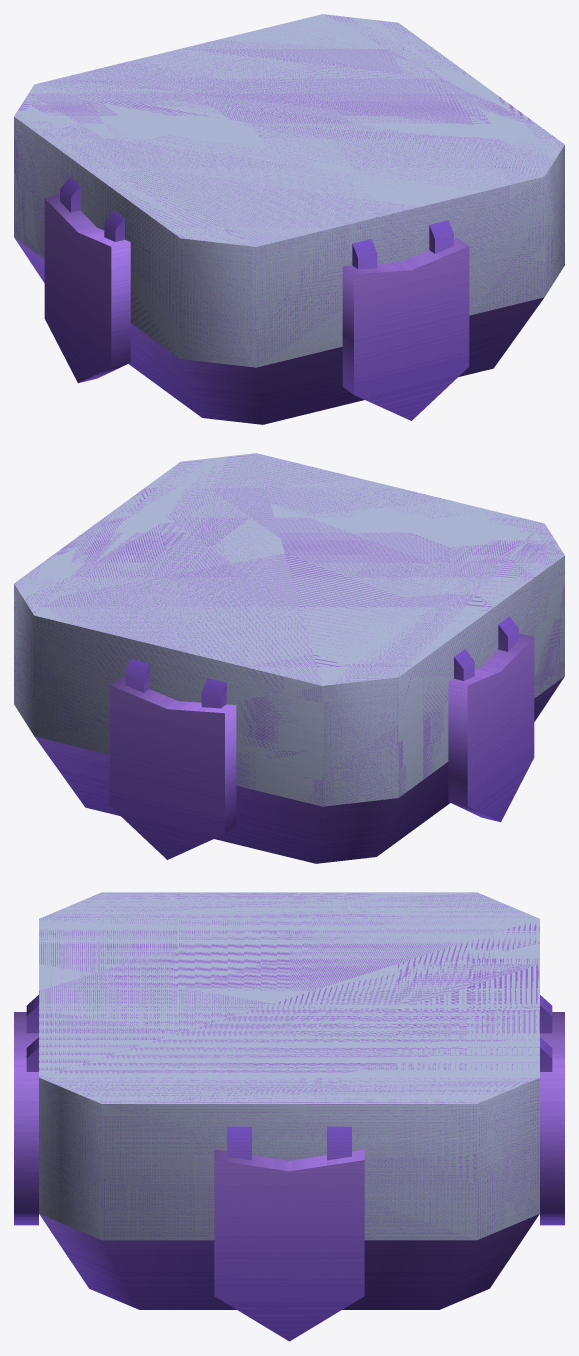
File: tower-defense-kit--tower-square-middle-a.glb
3 views of the same model, one above another, from view 1: azimuth 30°, elevation 25°; view 2: azimuth 150°, elevation 25°; view 3: azimuth 270°, elevation 25° (orthographic). The views are drawn at different scales.
Visible parts, largest first — view 1: tower-square-middle-a; view 2: tower-square-middle-a; view 3: tower-square-middle-a.
Boxes of the visible parts, bbox=[...] form: tower-square-middle-a: bbox=[14, 14, 564, 424]; tower-square-middle-a: bbox=[14, 453, 564, 863]; tower-square-middle-a: bbox=[14, 892, 564, 1341].
Bounding box in the file's own units: 1.1 × 0.5 × 1.1.
Materials: 1 (1 with a texture image).
